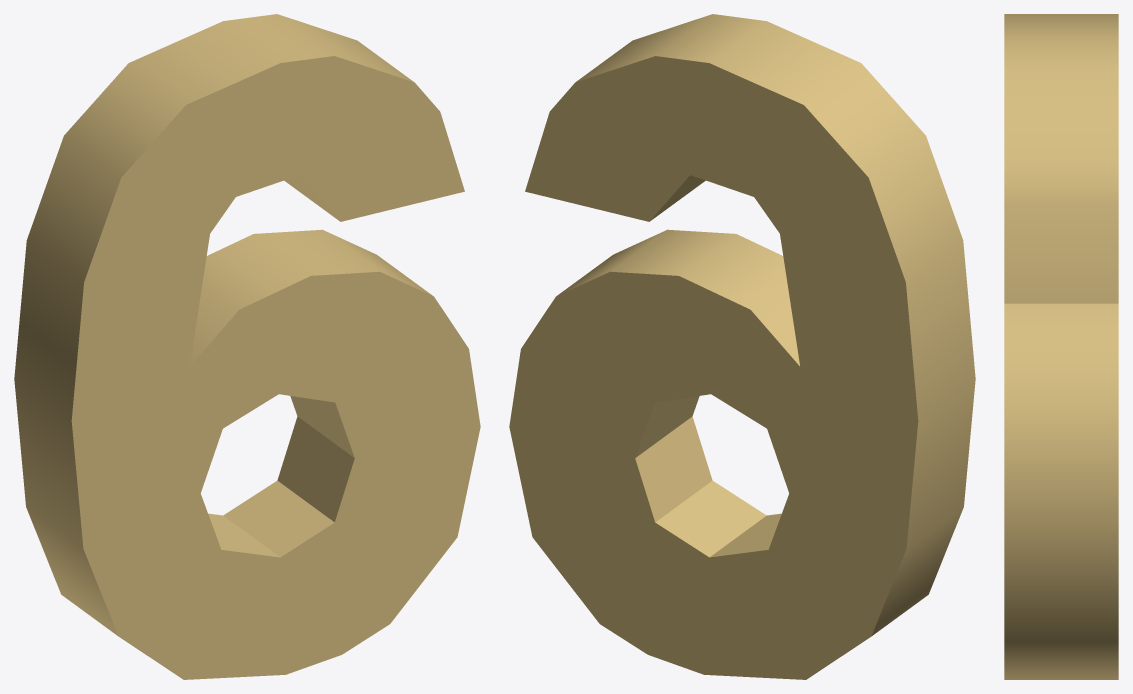
Rendered from kr_num_6.glb.
3 views of the same model, side by side, from view 1: azimuth 30°, elevation 25°; view 2: azimuth 150°, elevation 25°; view 3: azimuth 270°, elevation 25° (orthographic).
Parts seen in each view (by area): view 1: vc_m8_r2; view 2: vc_m8_r2; view 3: vc_m8_r2.
Part boxes in pixels (x1,y1,x2,y2): vc_m8_r2: (14,14,480,679); vc_m8_r2: (509,14,975,679); vc_m8_r2: (1004,14,1118,679).
Size of the model in its own units: 0.247 by 0.3537 by 0.06.
